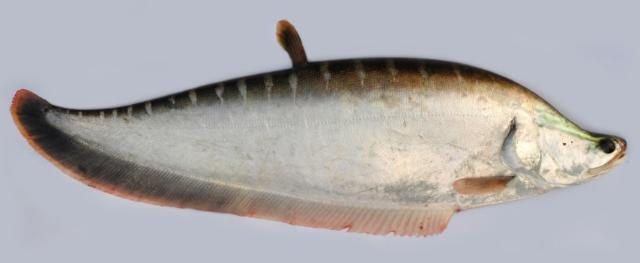Mulut: (580, 132, 640, 188)
Sirip Dada: (448, 168, 522, 202)
Sirip Punggung: (268, 12, 316, 75)
